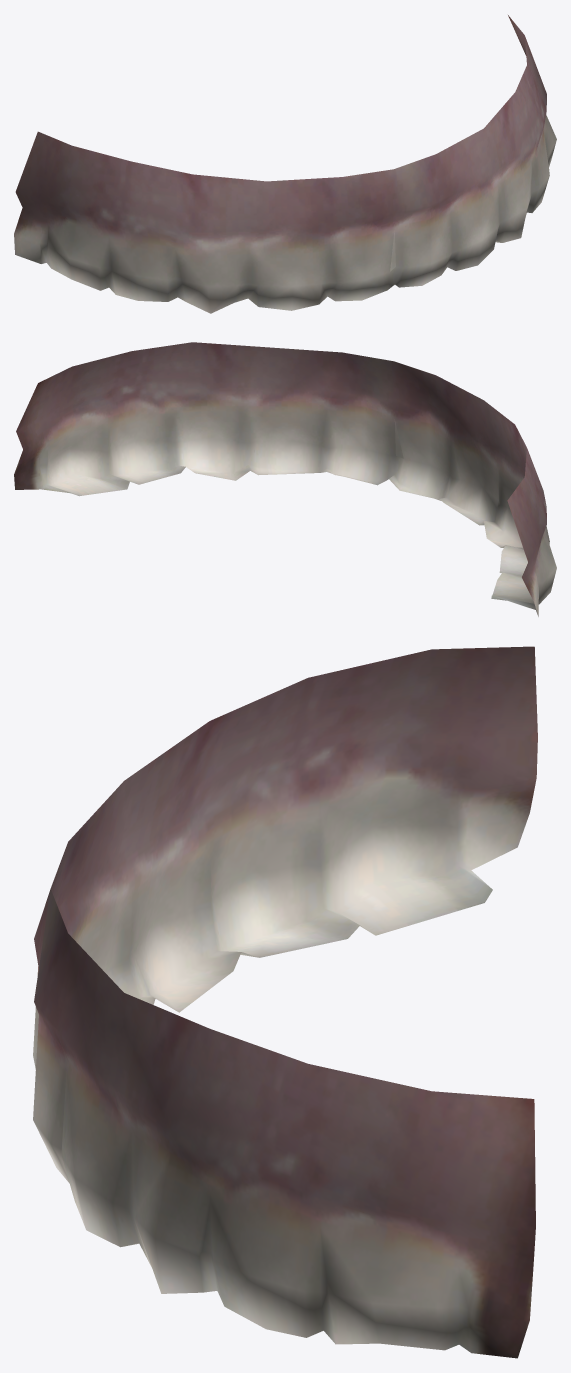
The model's file is UpperTeethShape.obj.
3 views of the same model, one above another, from view 1: azimuth 30°, elevation 25°; view 2: azimuth 150°, elevation 25°; view 3: azimuth 270°, elevation 25° (orthographic). The views are drawn at different scales.
Visible parts, largest first — view 1: UpperTeeth Inner_Face_Parts Brad_Skin CharacterRoot; view 2: UpperTeeth Inner_Face_Parts Brad_Skin CharacterRoot; view 3: UpperTeeth Inner_Face_Parts Brad_Skin CharacterRoot.
Boxes of the visible parts, <box> form: UpperTeeth Inner_Face_Parts Brad_Skin CharacterRoot: <box>14,15,556,313</box>; UpperTeeth Inner_Face_Parts Brad_Skin CharacterRoot: <box>14,342,556,616</box>; UpperTeeth Inner_Face_Parts Brad_Skin CharacterRoot: <box>33,646,537,1358</box>.
Bounding box in the file's own units: 5.44 × 1.35 × 2.27.
Materials: 1 (1 with a texture image).
